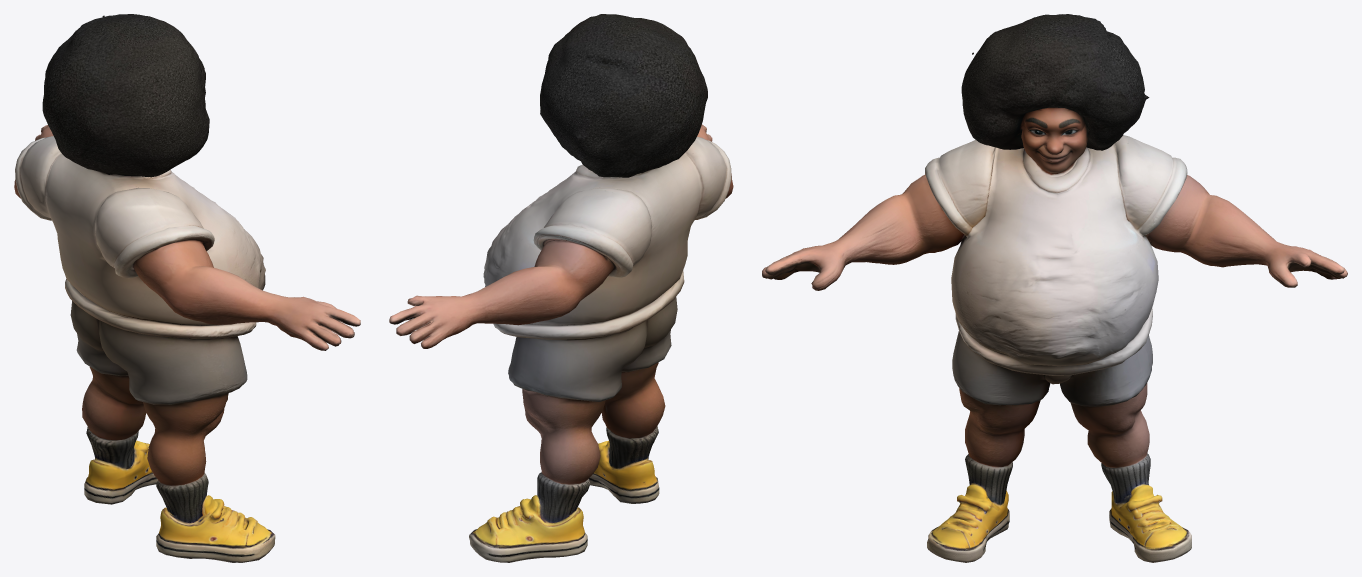
The picture shows the model from 3 angles, left to right: view 1: azimuth 30°, elevation 25°; view 2: azimuth 150°, elevation 25°; view 3: azimuth 270°, elevation 25°; orthographic projection.
Visible parts, largest first — view 1: tripo_node_57df95a1; view 2: tripo_node_57df95a1; view 3: tripo_node_57df95a1.
Boxes of the visible parts, x1=… form: tripo_node_57df95a1: x1=14, y1=14, x2=360, y2=562; tripo_node_57df95a1: x1=389, y1=14, x2=733, y2=562; tripo_node_57df95a1: x1=762, y1=14, x2=1347, y2=562.
Size of the model in its own units: 40.12 by 94.13 by 100.
Materials: 1 (1 with a texture image).
